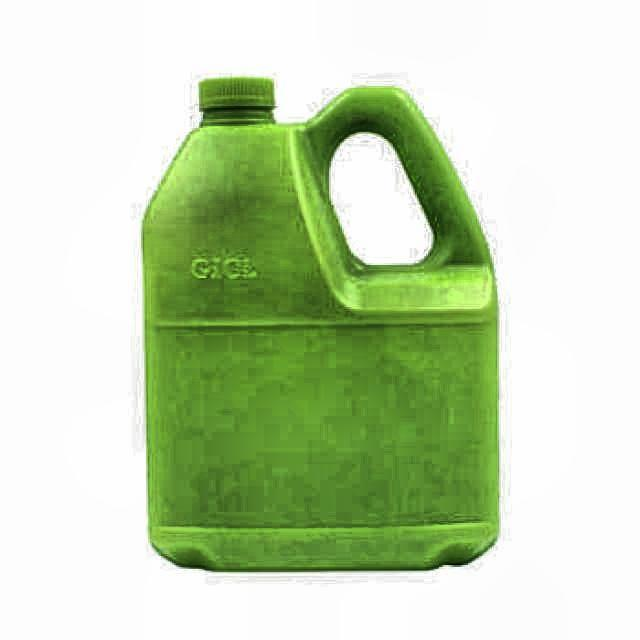plastic: (139, 77, 508, 575)
